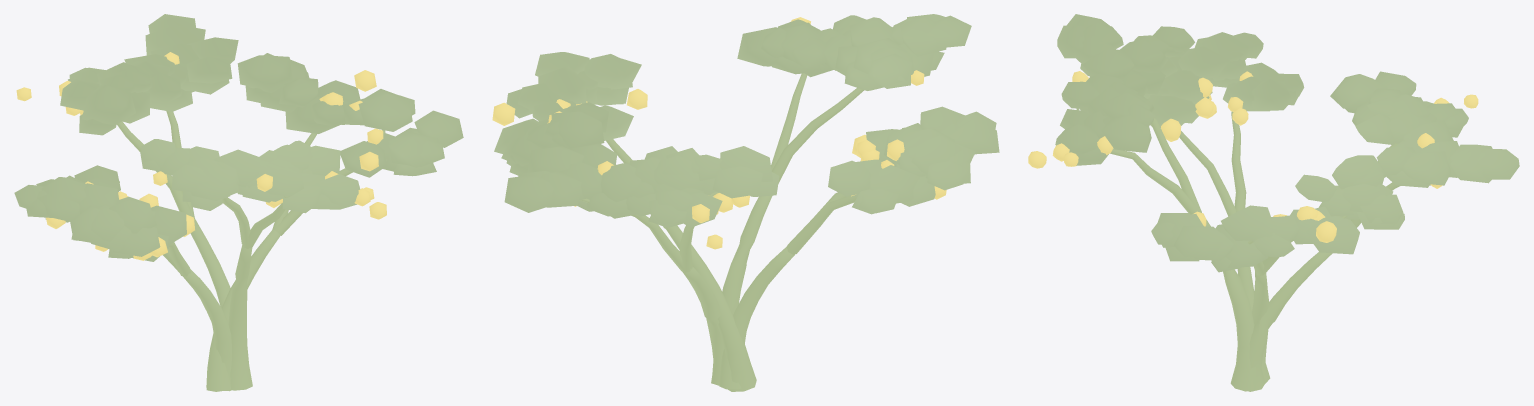
Rendered from Blender_Palo_2.glb.
3 renders of one model, left to right at view 1: azimuth 30°, elevation 25°; view 2: azimuth 150°, elevation 25°; view 3: azimuth 270°, elevation 25°, orthographic. The views are drawn at different scales.
Visible parts, largest first — view 1: Blender_Palo_2; view 2: Blender_Palo_2; view 3: Blender_Palo_2.
Boxes of the visible parts, x1,y1,x2,y2 form: Blender_Palo_2: [14, 14, 463, 391]; Blender_Palo_2: [492, 14, 999, 391]; Blender_Palo_2: [1028, 14, 1519, 391].
Size of the model in its own units: 7.21 by 5.11 by 7.34.
